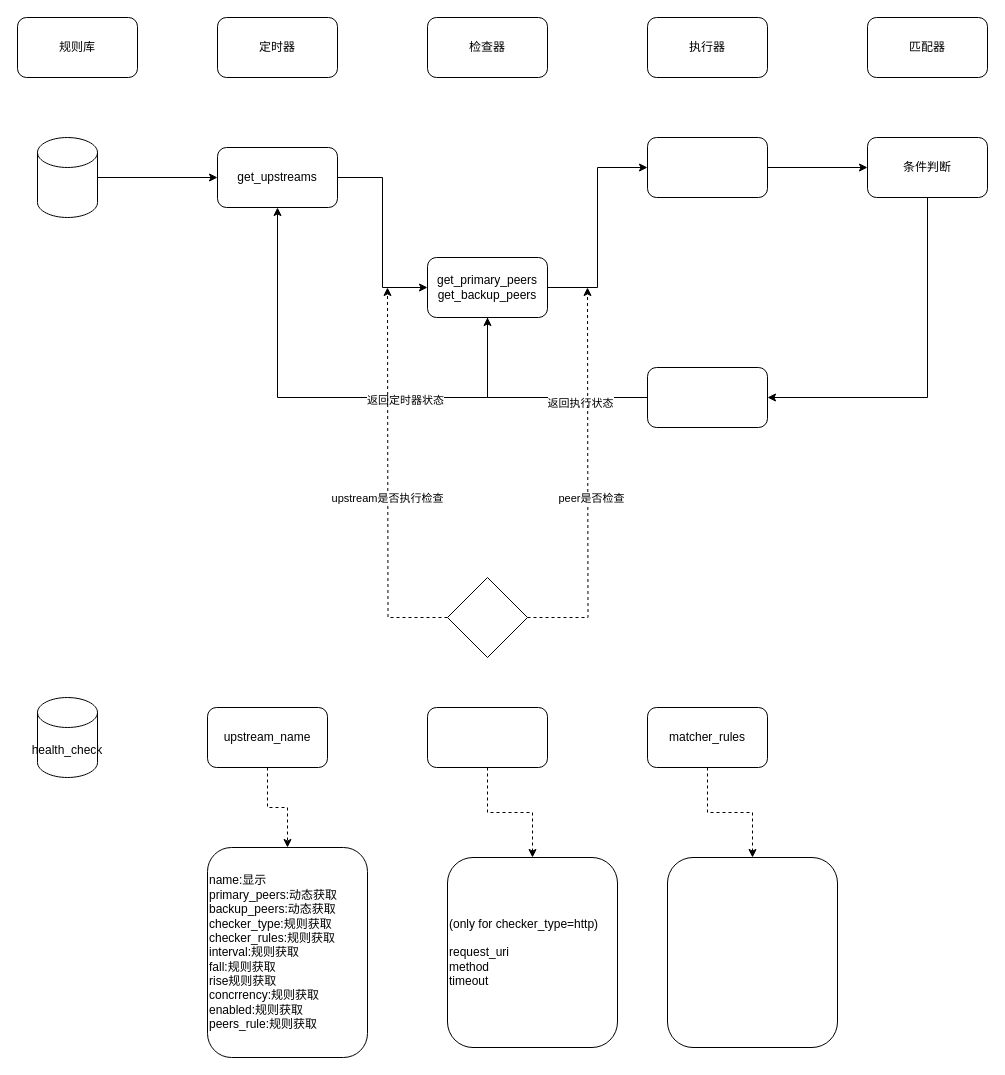
This 1005x1075 diagram has some shape labels left out. The centre of each missing label's shape, as x and y in pixels:
checker_rules: the point at 487,737
nginx.conf: the point at 67,177
ok_code: ok_resp_content:: the point at 752,952
拦截器: the point at 487,617
检查方法: the point at 707,167
状态变化: the point at 707,397
